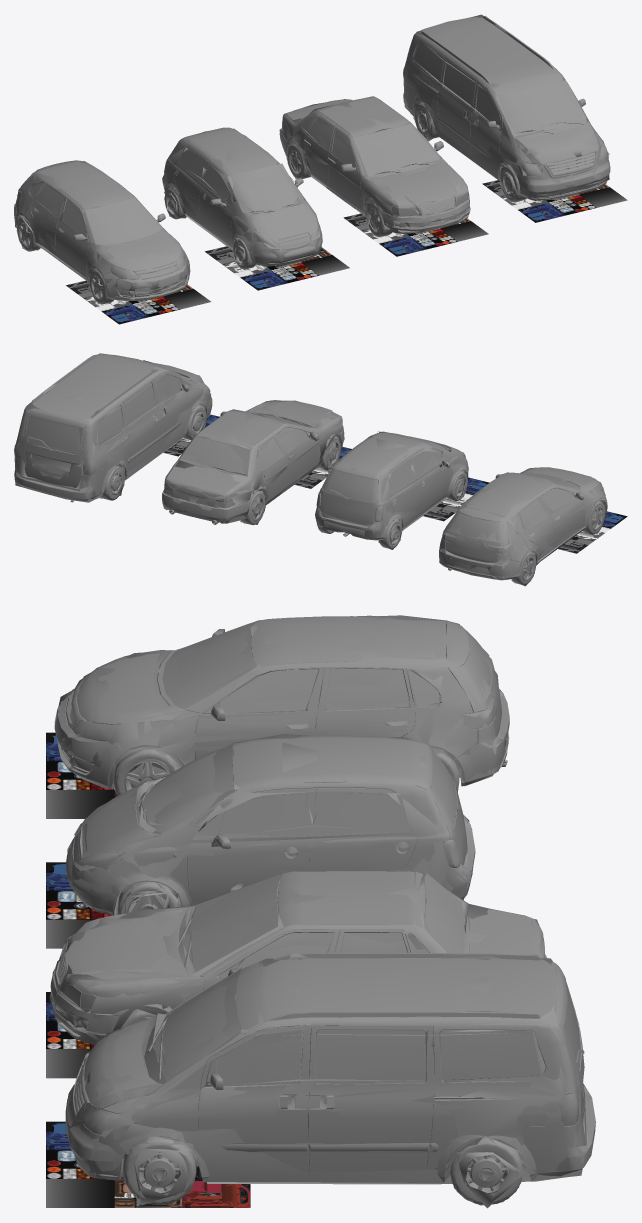
The model's file is Scene Collection.fbx.
3 renders of one model, top to bottom at view 1: azimuth 30°, elevation 25°; view 2: azimuth 150°, elevation 25°; view 3: azimuth 270°, elevation 25°, orthographic. The views are drawn at different scales.
Visible parts, largest first — view 1: SM_Car_04, SM_Car_03, SM_Car_01, SM_Car_02; view 2: SM_Car_04, SM_Car_03, SM_Car_01, SM_Car_02; view 3: SM_Car_04, SM_Car_01, SM_Car_02, SM_Car_03.
Part boxes in pixels (x1,y1,x2,y2): SM_Car_04: (403, 14, 627, 222); SM_Car_03: (279, 96, 488, 256); SM_Car_01: (14, 160, 210, 324); SM_Car_02: (162, 127, 349, 290); SM_Car_04: (14, 353, 219, 502); SM_Car_03: (162, 400, 351, 525); SM_Car_01: (439, 467, 627, 586); SM_Car_02: (315, 431, 489, 549); SM_Car_04: (46, 952, 595, 1208); SM_Car_01: (46, 615, 509, 818); SM_Car_02: (46, 734, 475, 948); SM_Car_03: (46, 871, 547, 1078).
Bounding box in the file's own units: 11.08 × 2 × 5.38.
